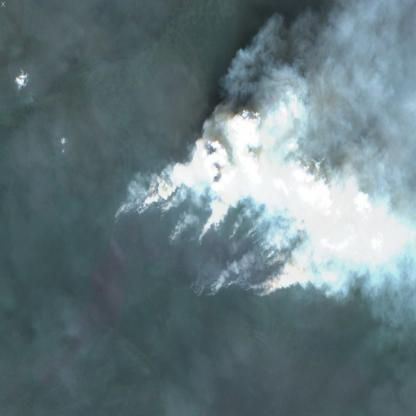fire: (108, 189, 302, 304)
